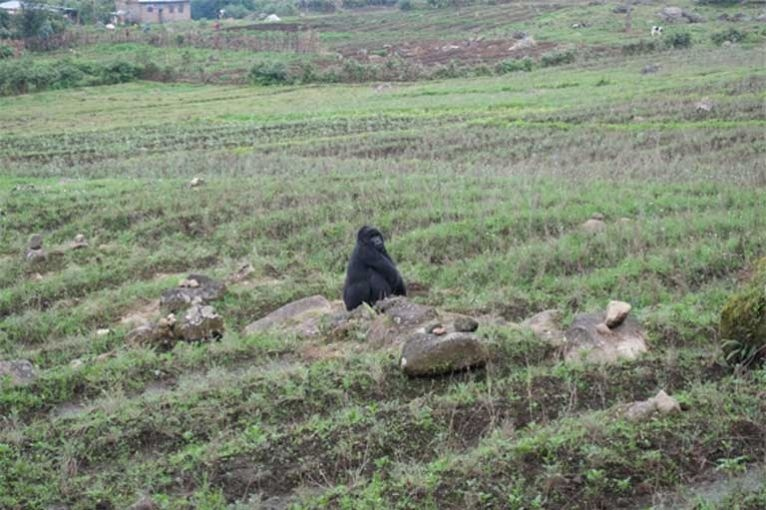gorilla: (341, 221, 411, 316)
